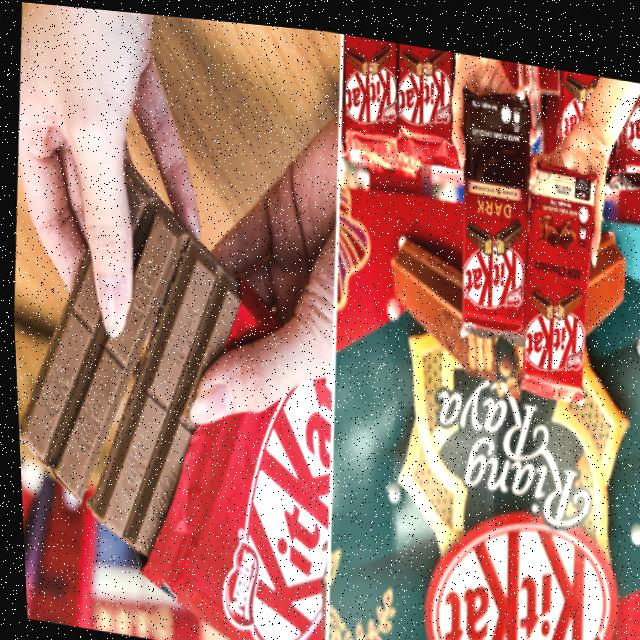kitkat: (451, 91, 536, 335), (512, 155, 595, 392), (392, 38, 459, 165), (337, 34, 401, 150)
